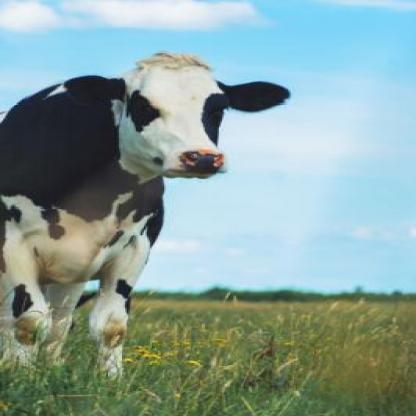lower: (183, 174, 202, 178)
mouth: (163, 150, 227, 182)
upper: (198, 157, 216, 165)
